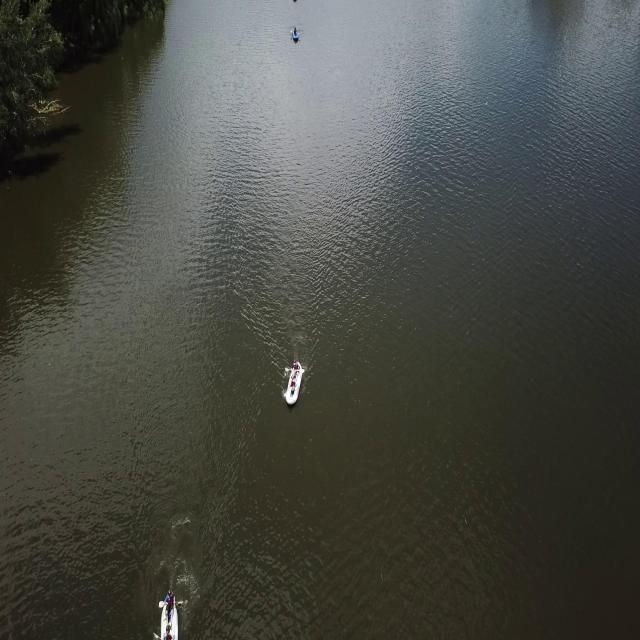kayak: (154, 584, 184, 640), (282, 357, 306, 410), (290, 27, 301, 46)
